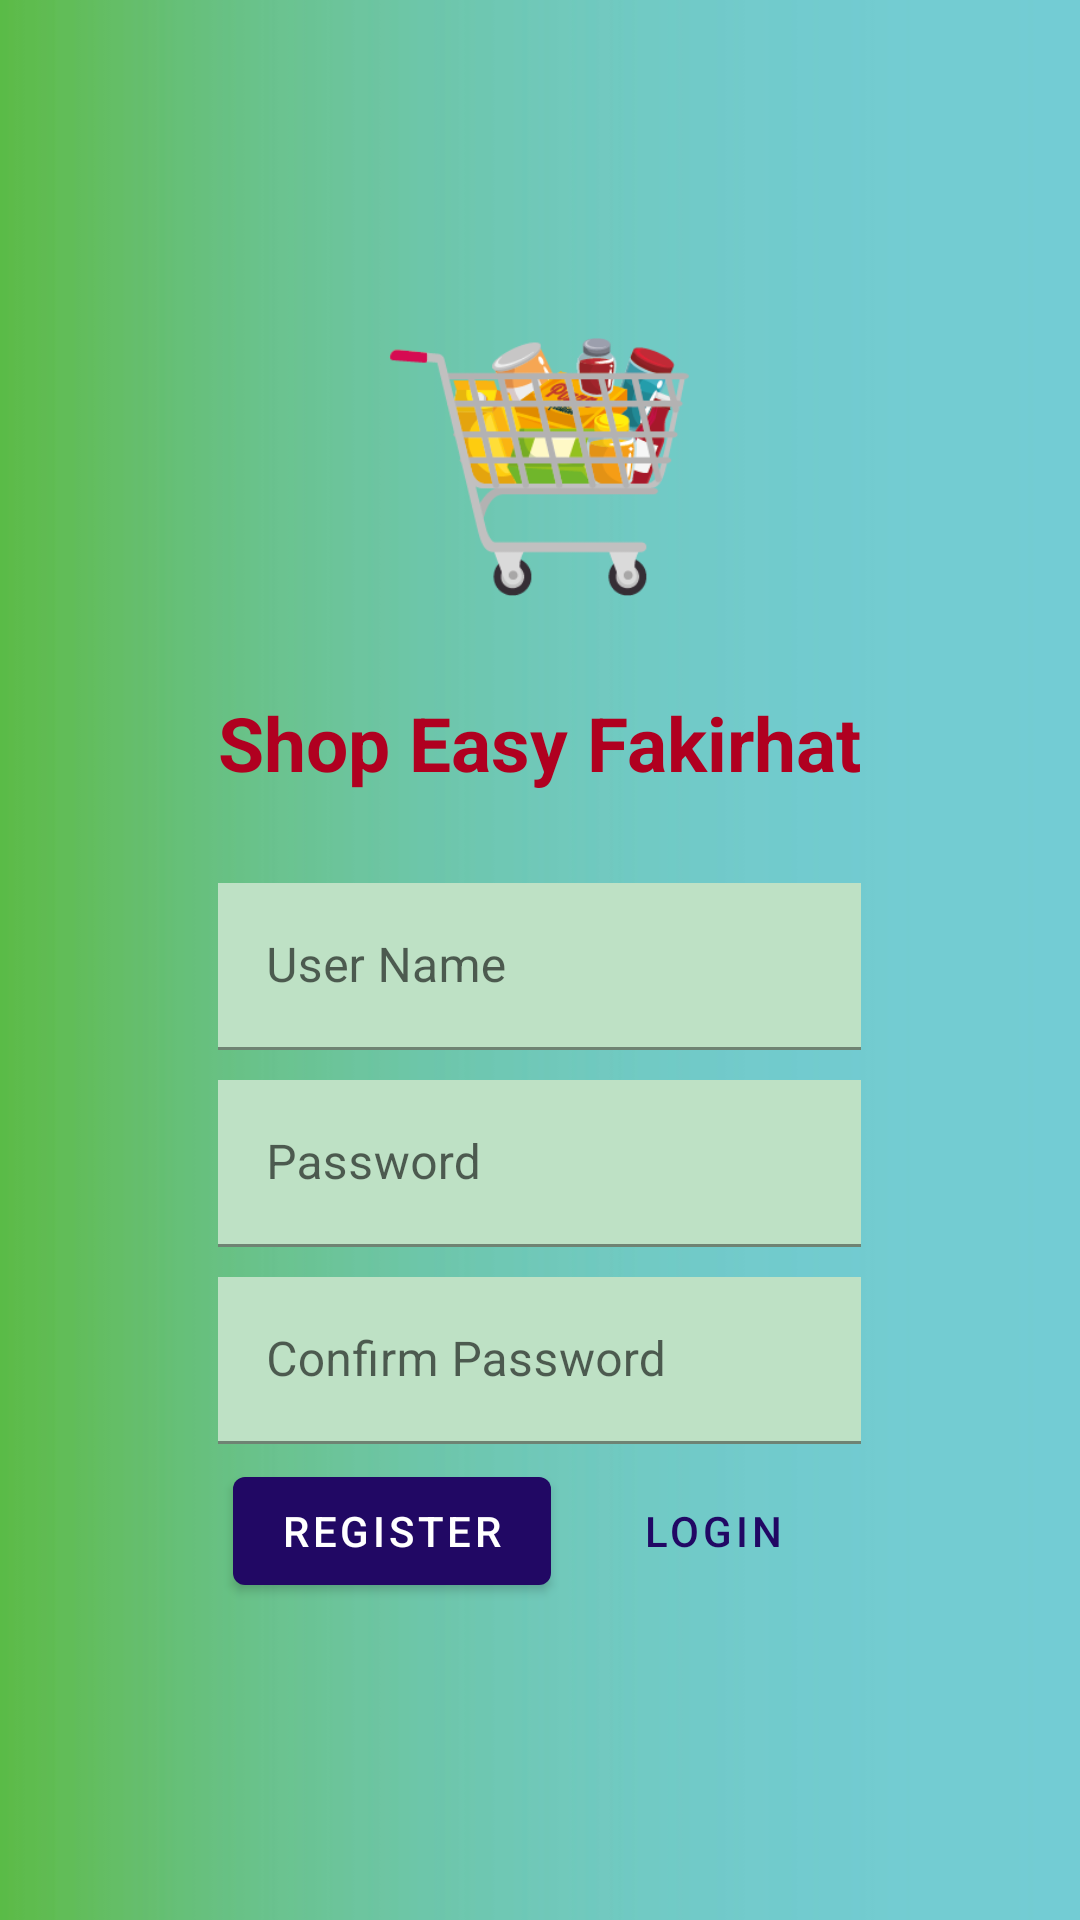

Named icons in this screenshot (1080px x 1920px) and their centers, [x,y]:
cart: [539,467]
